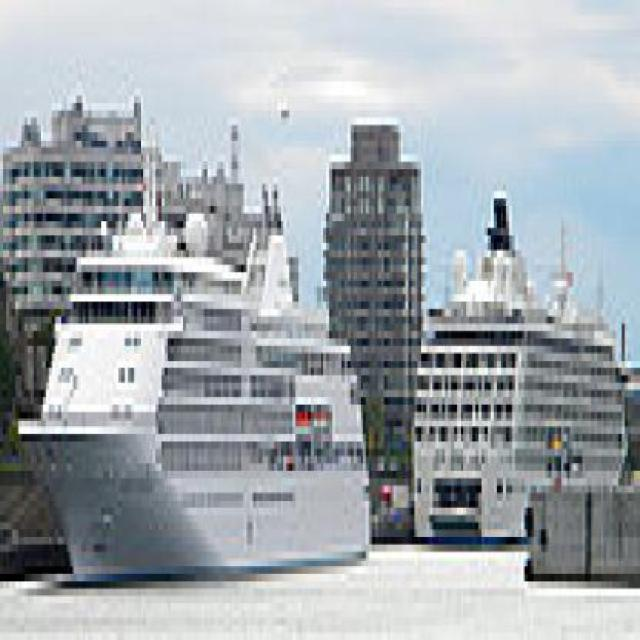cruise: (10, 156, 383, 597), (403, 170, 639, 561)
